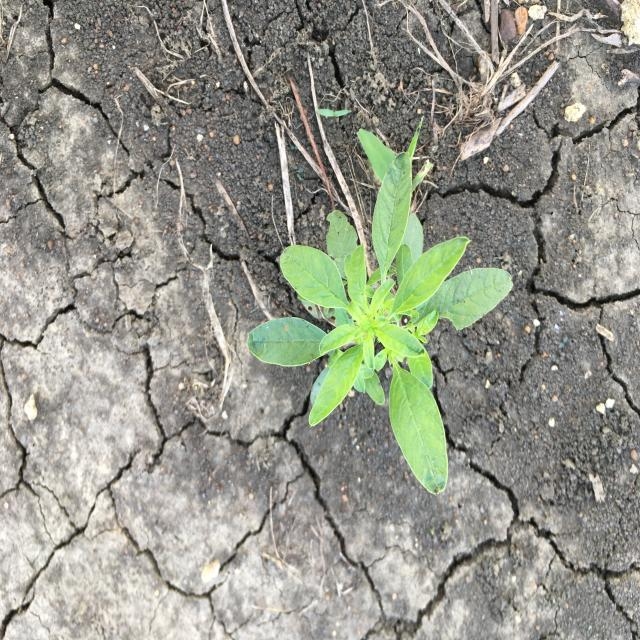Waterhemp: (245, 149, 515, 498)
